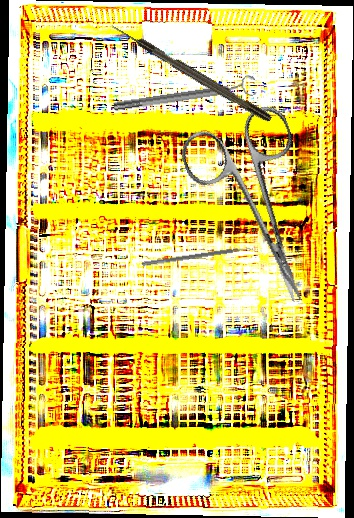Fixation Ring: (112, 74, 258, 117)
Hook Surgical: (109, 20, 273, 125)
Iris Scissors: (175, 100, 346, 323)
Spatula Surgical: (141, 244, 256, 271)
